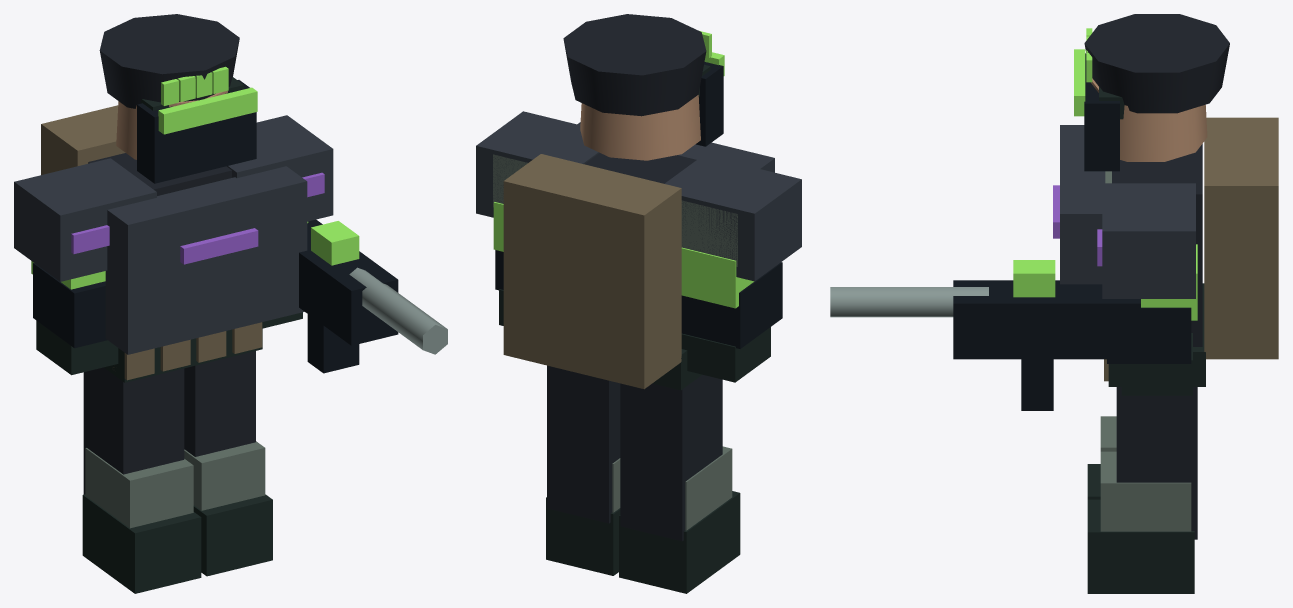
Rendered from sentinel_l04.glb.
3 views of the same model, side by side, from view 1: azimuth 30°, elevation 25°; view 2: azimuth 150°, elevation 25°; view 3: azimuth 270°, elevation 25° (orthographic). The views are drawn at different scales.
Parts seen in each view (by area): view 1: tactical_chest_plate, trouser (×2), broad_shoulder_guard (×2), boot (×2), knee_plate (×2), helmet, full_face_mask, heavy_carbine, forearm_guard, field_pack, heavy_barrel, night_optics (+12 smaller); view 2: field_pack, trouser (×2), broad_shoulder_guard (×2), helmet, boot (×2), face, forearm_guard, shoulder_plate (×2), rank_stripe (×2), glove, knee_plate (×2), full_face_mask (+3 smaller); view 3: field_pack, heavy_carbine, helmet, broad_shoulder_guard, trouser, boot, tactical_chest_plate, knee_plate (×2), heavy_barrel, face, body, forearm_guard (+7 smaller).
Part boxes in pixels (<box>): tactical_chest_plate: <box>105,166,307,354</box>; trouser (×2): <box>83,351,255,494</box>; broad_shoulder_guard (×2): <box>14,115,333,281</box>; boot (×2): <box>82,494,272,593</box>; knee_plate (×2): <box>85,441,265,528</box>; helmet: <box>99,14,239,108</box>; full_face_mask: <box>137,80,256,183</box>; heavy_carbine: <box>299,219,398,345</box>; forearm_guard: <box>33,263,107,348</box>; field_pack: <box>41,105,125,174</box>; heavy_barrel: <box>349,267,447,354</box>; night_optics: <box>158,87,257,134</box>; field_pack: <box>503,154,681,389</box>; trouser (×2): <box>547,365,722,541</box>; broad_shoulder_guard (×2): <box>476,111,801,281</box>; helmet: <box>563,14,706,116</box>; boot (×2): <box>546,491,740,593</box>; face: <box>580,95,700,160</box>; forearm_guard: <box>681,262,782,348</box>; shoulder_plate (×2): <box>493,154,737,266</box>; rank_stripe (×2): <box>493,202,754,308</box>; glove: <box>681,327,770,382</box>; knee_plate (×2): <box>612,446,732,530</box>; full_face_mask: <box>696,62,723,146</box>; field_pack: <box>1204,117,1278,359</box>; heavy_carbine: <box>953,280,1140,359</box>; helmet: <box>1084,14,1229,113</box>; broad_shoulder_guard: <box>1102,183,1195,298</box>; trouser: <box>1116,387,1197,539</box>; boot: <box>1087,499,1194,593</box>; tactical_chest_plate: <box>1060,125,1105,284</box>; knee_plate (×2): <box>1100,416,1191,531</box>; heavy_barrel: <box>830,287,988,317</box>; face: <box>1091,78,1207,161</box>; body: <box>1112,144,1202,346</box>; forearm_guard: <box>1107,307,1191,363</box>.
Size of the model in its own units: 0.99 by 1.76 by 1.39.
